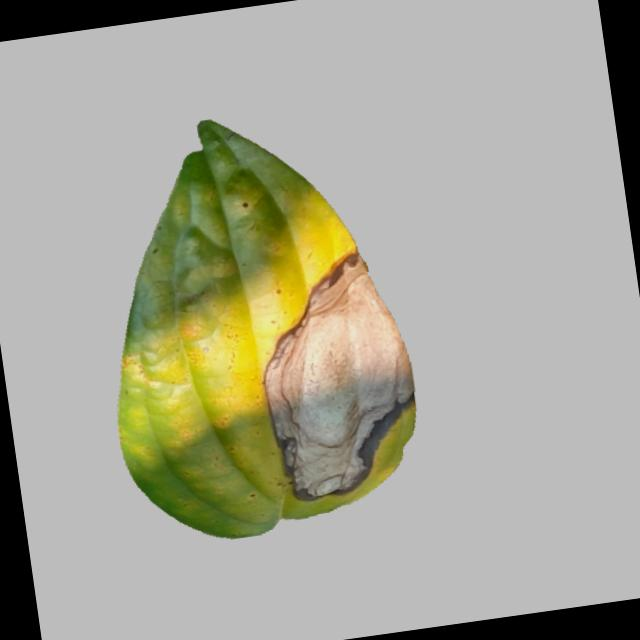leaf-blight: (57, 92, 449, 547)
